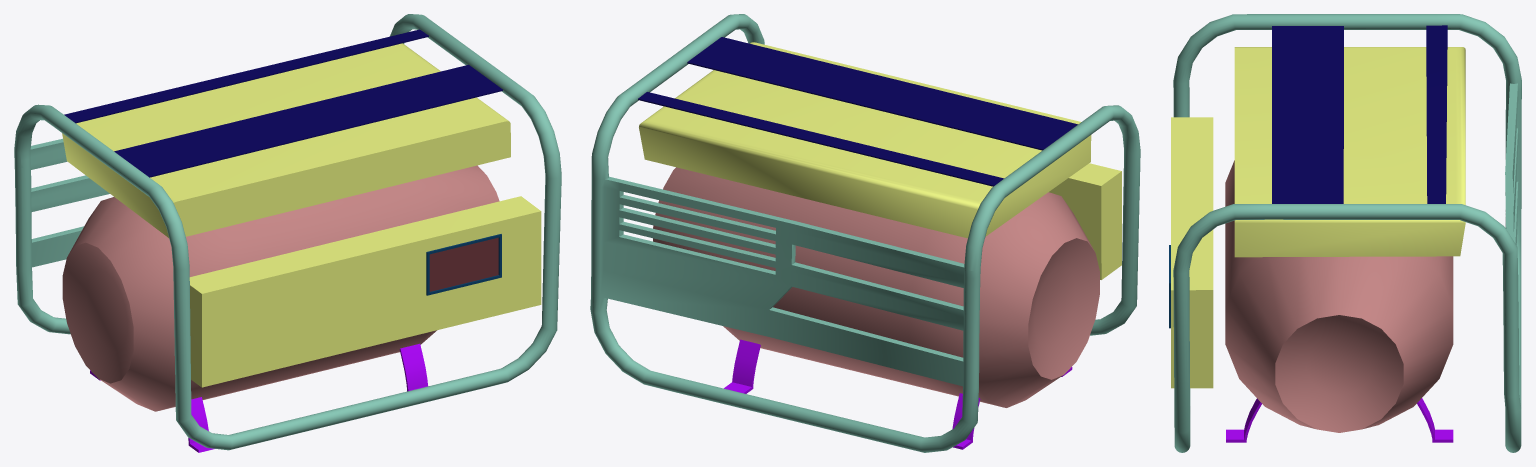
Rendered from FBX_Generateur.fbx.
The picture shows the model from 3 angles, left to right: view 1: azimuth 30°, elevation 25°; view 2: azimuth 150°, elevation 25°; view 3: azimuth 270°, elevation 25°; orthographic projection. The views are drawn at different scales.
Visible parts, largest first — view 1: trucs; view 2: trucs; view 3: trucs.
Boxes of the visible parts, left/top/right/bottom form: trucs: left=14, top=14, right=561, bottom=452; trucs: left=590, top=14, right=1140, bottom=452; trucs: left=1169, top=14, right=1521, bottom=452.
Size of the model in its own units: 1.31 by 0.8837 by 0.9861.
